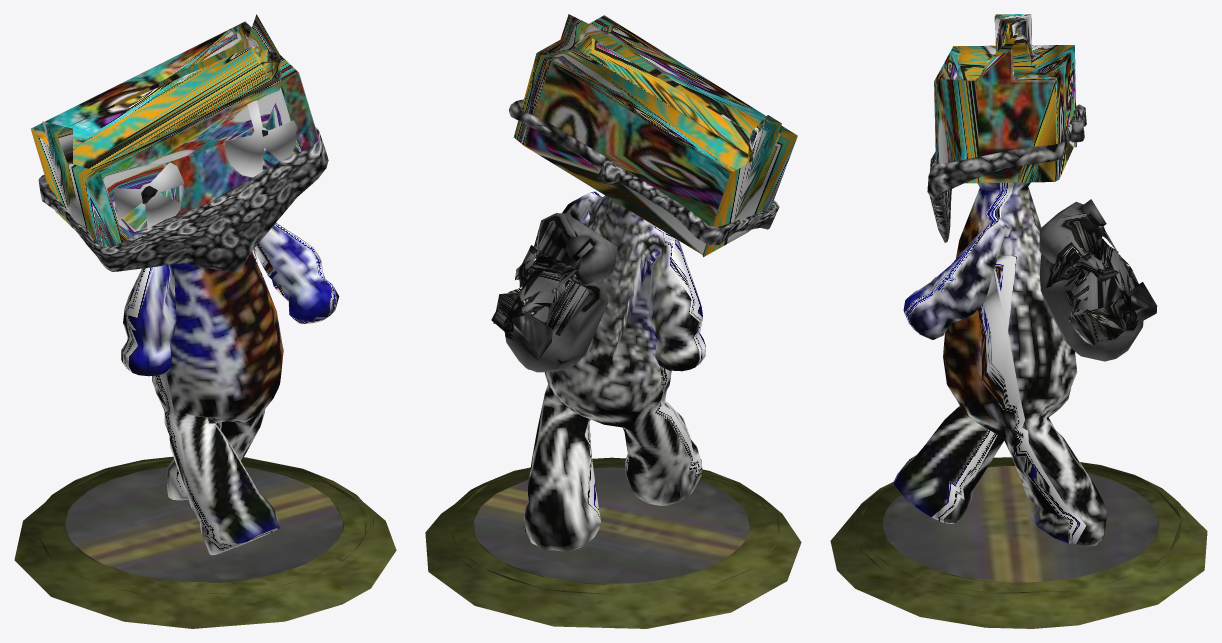
3 renders of one model, left to right at view 1: azimuth 30°, elevation 25°; view 2: azimuth 150°, elevation 25°; view 3: azimuth 270°, elevation 25°, orthographic.
Size of the model in its own units: 1.44 by 2.18 by 1.43.
8 materials, 6 textured.
